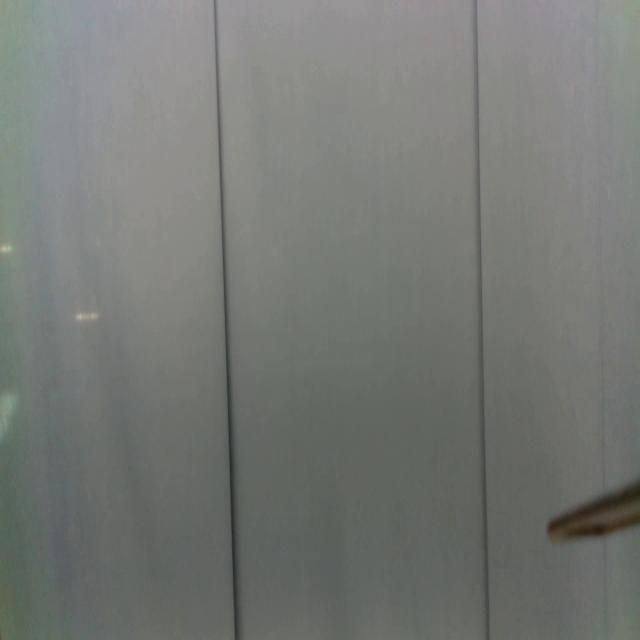crease: (212, 1, 238, 640), (473, 0, 494, 640), (598, 216, 609, 502), (602, 533, 611, 640)
